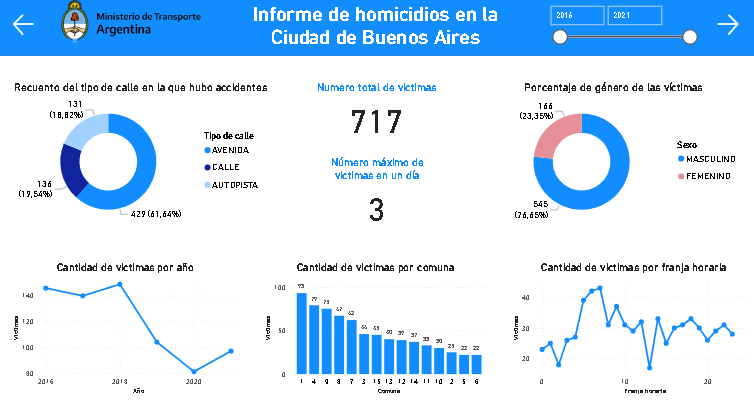

The dashboard page shown, as its layout file describes it:
{"tool":"powerbi","page":{"name":"Informe Homicidios","canvas":[1280,720],"ordinal":1},"visuals":[{"type":"shape","box":[0,0,1280.9,98.5],"z":0},{"type":"shape","box":[110.9,18.7,41.8,53.3],"z":1000},{"type":"image","box":[86.4,0,280.8,82.1],"z":2000},{"type":"donutChart","title":"Recuento del tipo de calle en la que hubo accidentes","fields":{"Category":["HECHOS_HOMICIDIOS.TIPO_DE_CALLE"],"Y":["CountNonNull(HECHOS_HOMICIDIOS.TIPO_DE_CALLE)"]},"box":[23.5,141.2,438.2,250],"z":3000},{"type":"card","title":"Numero total de victimas","fields":{"Values":["Sum(HECHOS_HOMICIDIOS.N_VICTIMAS)"]},"box":[520.6,141.2,236.8,102.9],"z":4000},{"type":"textbox","box":[398.9,4.3,479.5,105.1],"z":5000},{"type":"slicer","fields":{"Values":["HECHOS_HOMICIDIOS.AAAA"]},"box":[918.7,4.3,267.8,82.1],"z":6000},{"type":"lineChart","title":"Cantidad de victimas por año","fields":{"Category":["HECHOS_HOMICIDIOS.AAAA"],"Y":["Sum(HECHOS_HOMICIDIOS.N_VICTIMAS)"]},"box":[23.5,442.6,388.2,227.9],"z":7000},{"type":"card","title":"Número máximo de victimas en un día","fields":{"Values":["Max(HECHOS_HOMICIDIOS.N_VICTIMAS)"]},"box":[547.1,266.2,185.3,113.2],"z":8000},{"type":"lineChart","title":"Cantidad de victimas por franja horaria","fields":{"Category":["HECHOS_HOMICIDIOS.HH"],"Y":["Sum(HECHOS_HOMICIDIOS.N_VICTIMAS)"]},"box":[863.2,442.6,416.2,227.9],"z":9000},{"type":"clusteredColumnChart","title":"Cantidad de victimas por comuna","fields":{"Category":["HECHOS_HOMICIDIOS.COMUNA"],"Y":["Sum(HECHOS_HOMICIDIOS.N_VICTIMAS)"]},"box":[447.1,442.6,382.4,227.9],"z":10000},{"type":"actionButton","box":[1206.7,23,49,46.1],"z":11000},{"type":"actionButton","box":[23,23,53.3,46.1],"z":12000},{"type":"donutChart","title":"Porcentaje de género de las víctimas","fields":{"Category":["VICTIMAS_HOMICIDIOS.SEXO"],"Y":["CountNonNull(VICTIMAS_HOMICIDIOS.SEXO)"]},"box":[817.6,141.2,438.2,250],"z":13000}]}

Visuals, with their boxes in screenshot pixels (x1, y1, x2, y2), scaled from the page's 1280x720 canvas onto the 754x420 screenshot:
shape: <box>0,0,753,57</box>
shape: <box>65,11,90,42</box>
image: <box>51,0,216,48</box>
"Recuento del tipo de calle en la que hubo accidentes" donutChart: <box>14,82,272,228</box>
"Numero total de victimas" card: <box>307,82,446,142</box>
textbox: <box>235,3,517,64</box>
slicer - HECHOS_HOMICIDIOS.AAAA: <box>541,3,699,50</box>
"Cantidad de victimas por año" lineChart: <box>14,258,243,391</box>
"Número máximo de victimas en un día" card: <box>322,155,431,221</box>
"Cantidad de victimas por franja horaria" lineChart: <box>508,258,753,391</box>
"Cantidad de victimas por comuna" clusteredColumnChart: <box>263,258,489,391</box>
actionButton: <box>711,13,740,40</box>
actionButton: <box>14,13,45,40</box>
"Porcentaje de género de las víctimas" donutChart: <box>482,82,740,228</box>
